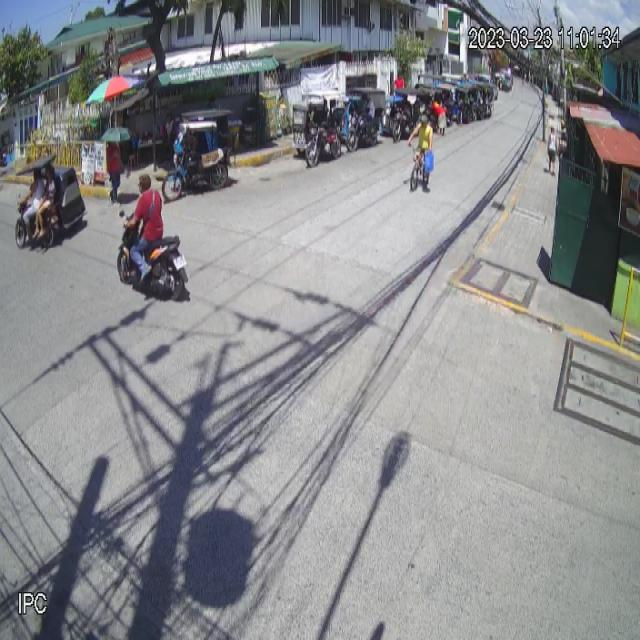Motorcycle: (118, 206, 188, 304)
Tricycle: (15, 153, 87, 252)
